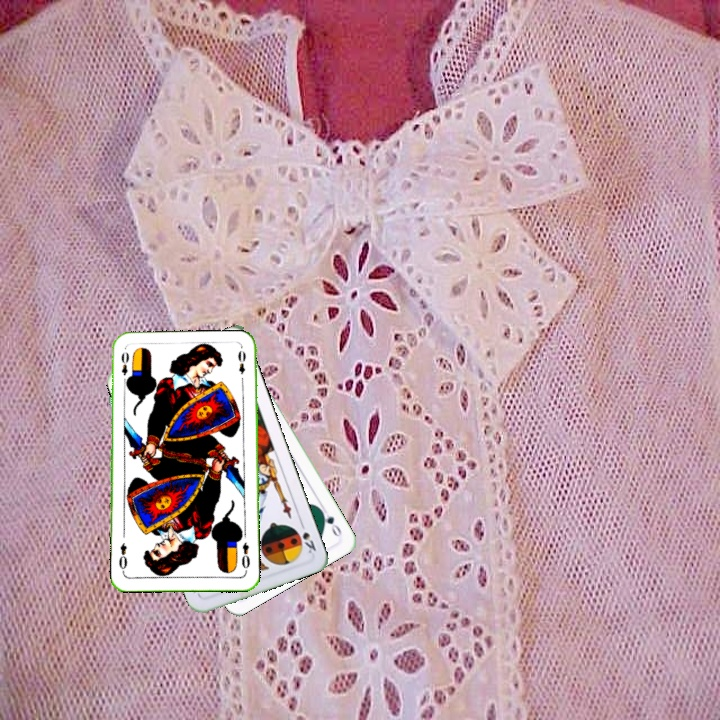EO: (117, 347, 133, 387), (237, 538, 253, 571)
GO: (315, 502, 344, 540)
SK: (296, 517, 319, 556)
